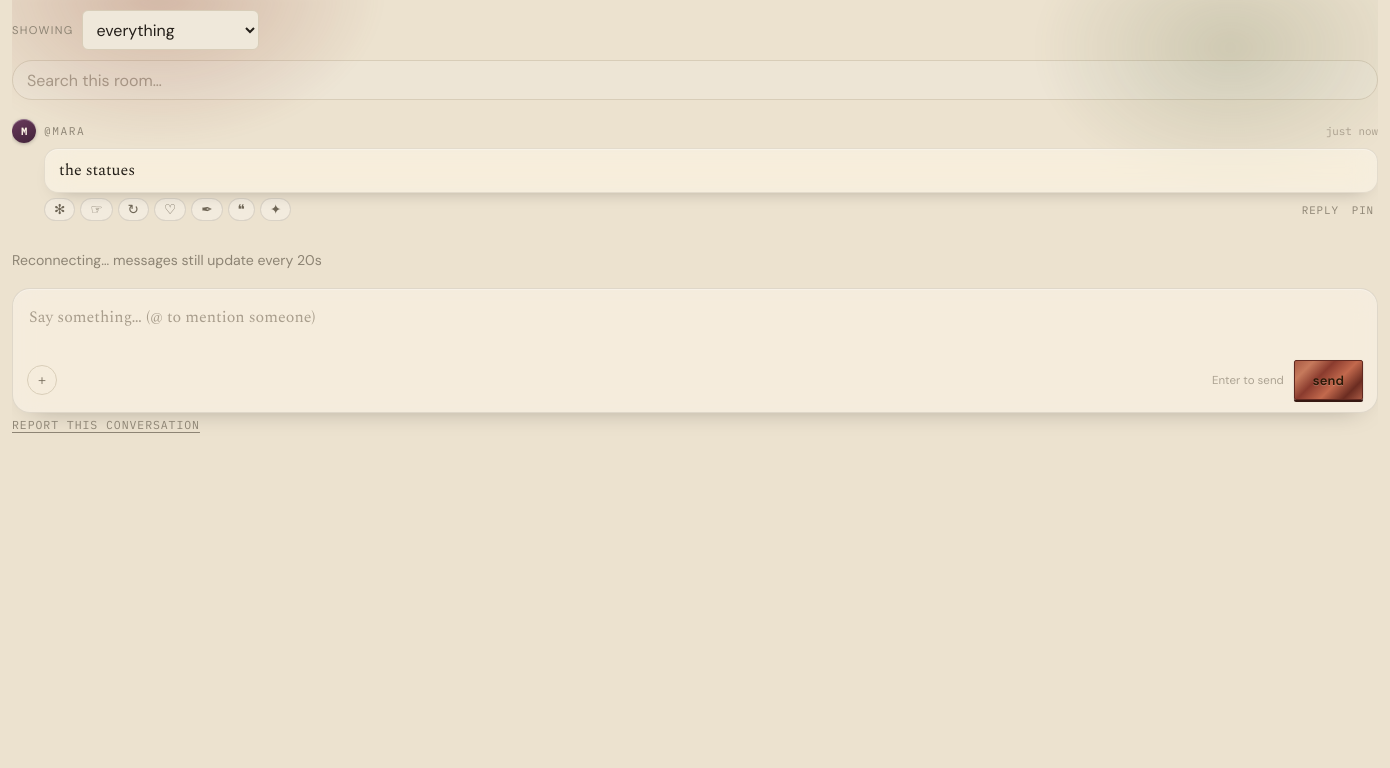
it: CollectionChat — one room per collection [#6] › lets you reply to a message, shows the quote strip, and clears it on send
Click the button "reply" at x=1320, y=210, box [1298,200,1343,220]
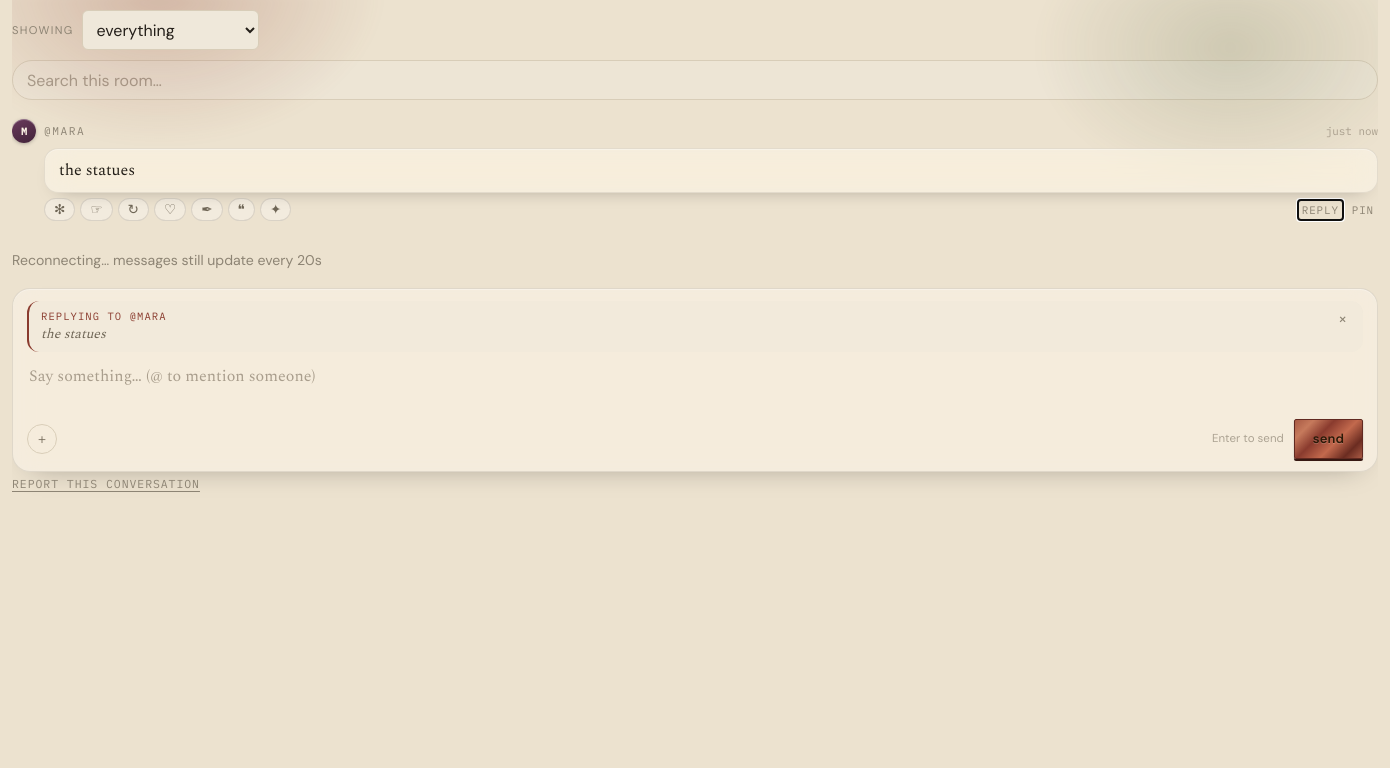
Result: the text "Replying to @mara" is shown at [41,309,166,323]
Type "same here" into the text box named "your message" at x=695, y=383, box [27,360,1363,406]
Then press Enter
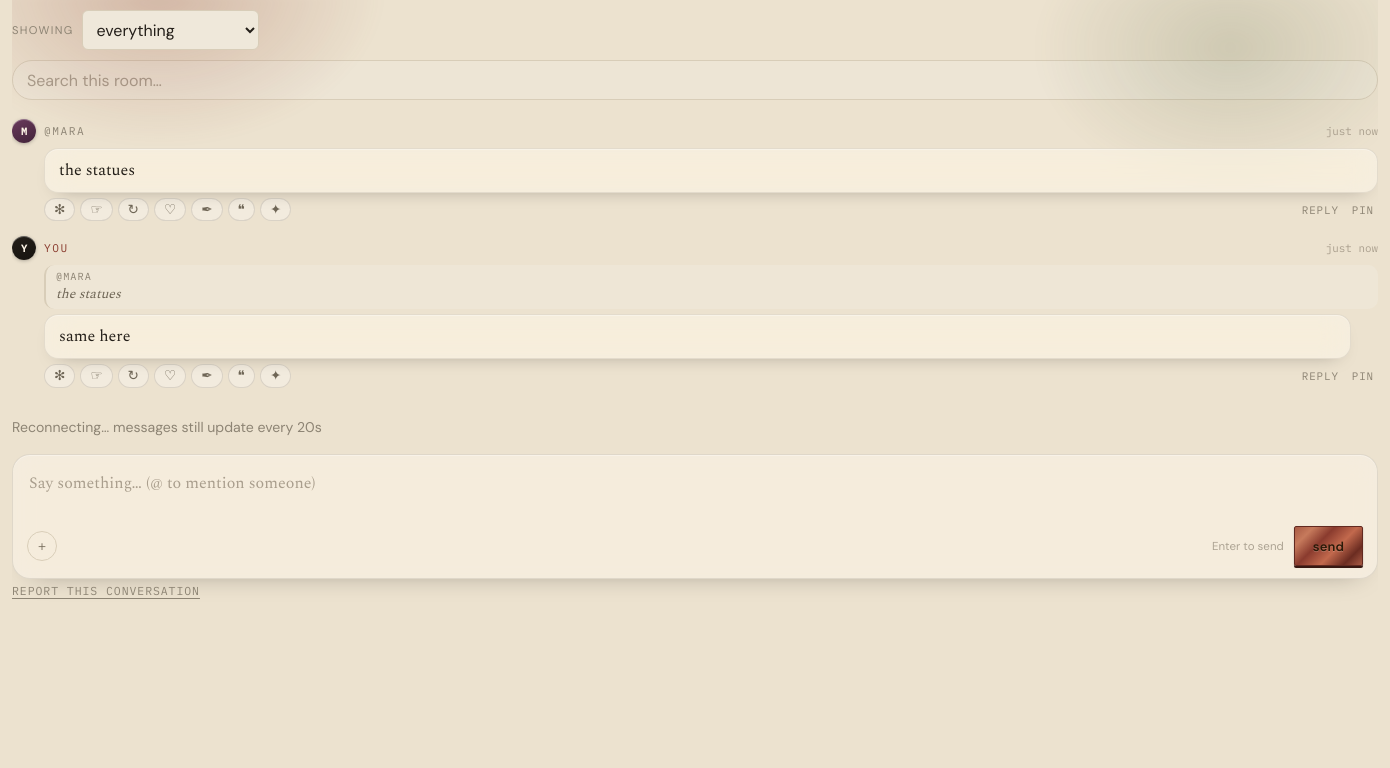
Result: the text "the statues" below "you" is shown at [56,284,121,304]
Result: the text "Replying to @mara" is gone
